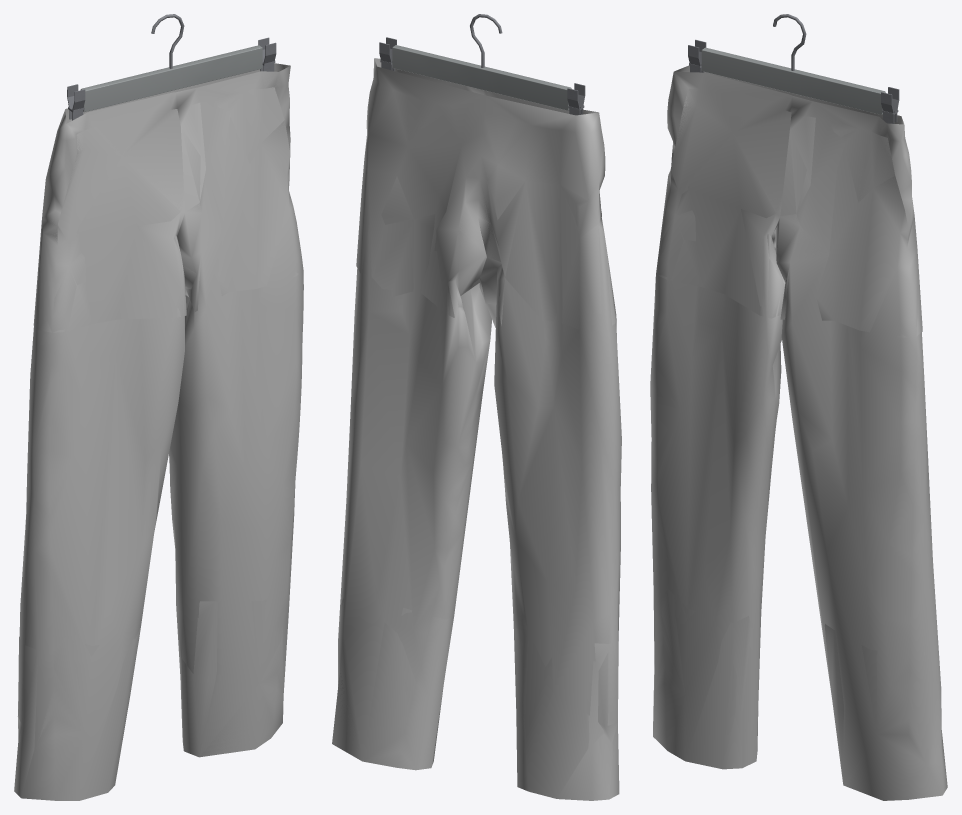
The model's file is suitPants.FBX.
3 views of the same model, side by side, from view 1: azimuth 30°, elevation 25°; view 2: azimuth 150°, elevation 25°; view 3: azimuth 330°, elevation 25° (orthographic). The views are drawn at different scales.
Parts seen in each view (by area): view 1: suit_pants_LOD0, _Hanger-2_LOD0; view 2: suit_pants_LOD0, _Hanger-2_LOD0; view 3: suit_pants_LOD0, _Hanger-2_LOD0.
Boxes of the visible parts, x1,y1,x2,y2 form: suit_pants_LOD0: (14, 63, 303, 800); _Hanger-2_LOD0: (67, 14, 276, 120); suit_pants_LOD0: (332, 58, 621, 800); _Hanger-2_LOD0: (379, 14, 585, 115); suit_pants_LOD0: (650, 65, 947, 800); _Hanger-2_LOD0: (688, 14, 899, 123).
Size of what is drawn, in the model's own units: 43.25 by 15.61 by 115.
